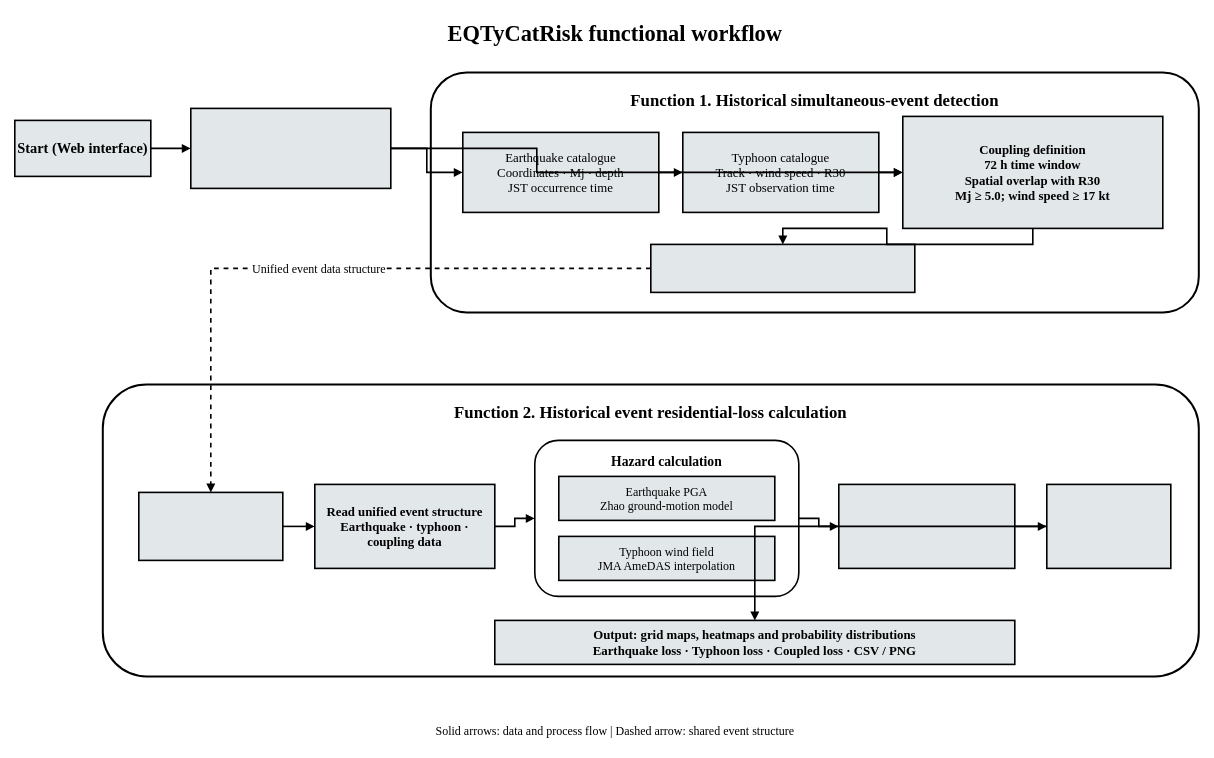
Image size: 1214x758. Some labels were removed from this diagram. Here are the shapes that lost their labels. From the top down, the centre of each, then its label:
the point at 290,148: Load historical catalogues 1950–2026; JST time standard
the point at 782,268: One-to-one matching Simultaneous event set · 24 pairs
the point at 210,526: Select target coupled event
the point at 926,526: Spatial matching Residential exposure + vulnerability surface
the point at 1108,526: Uncertainty calculation Gaussian random field + Monte Carlo (2,000 runs)
